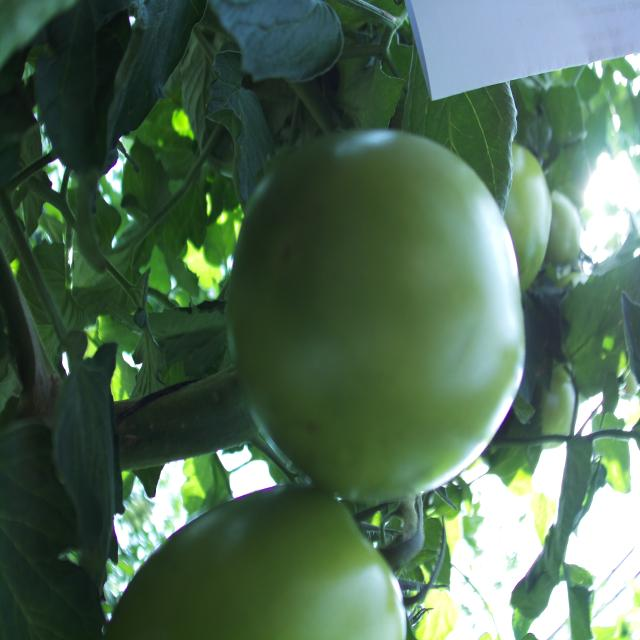yesil: (202, 128, 540, 490)
